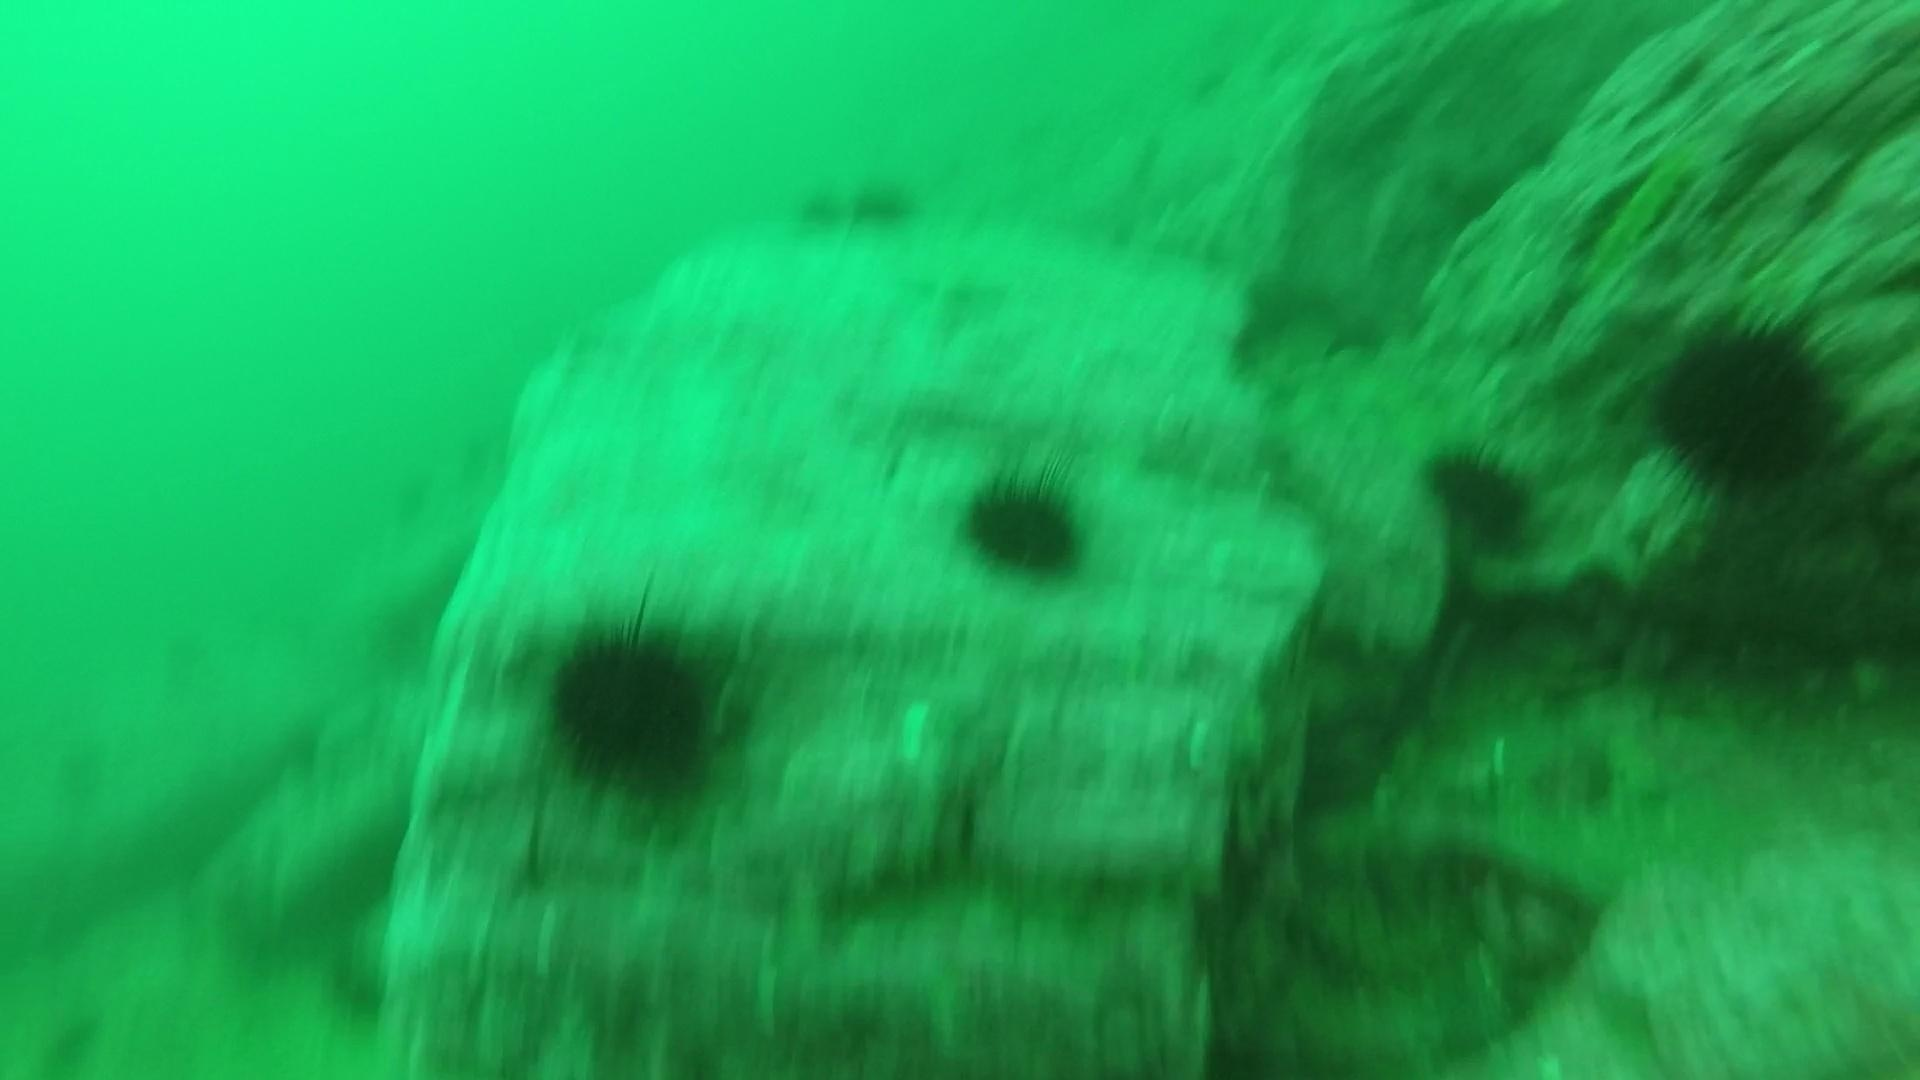echinus: (1640, 309, 1849, 502), (535, 604, 736, 802), (955, 463, 1093, 584), (1418, 438, 1545, 553), (847, 167, 922, 243), (793, 189, 851, 244)
